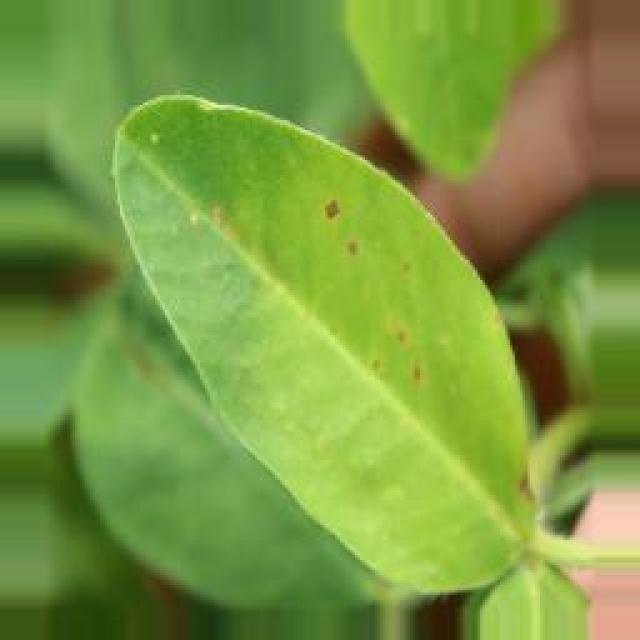Sigatoka: (160, 182, 256, 282), (344, 294, 431, 390), (497, 434, 561, 530), (317, 178, 380, 272), (384, 241, 430, 297)
